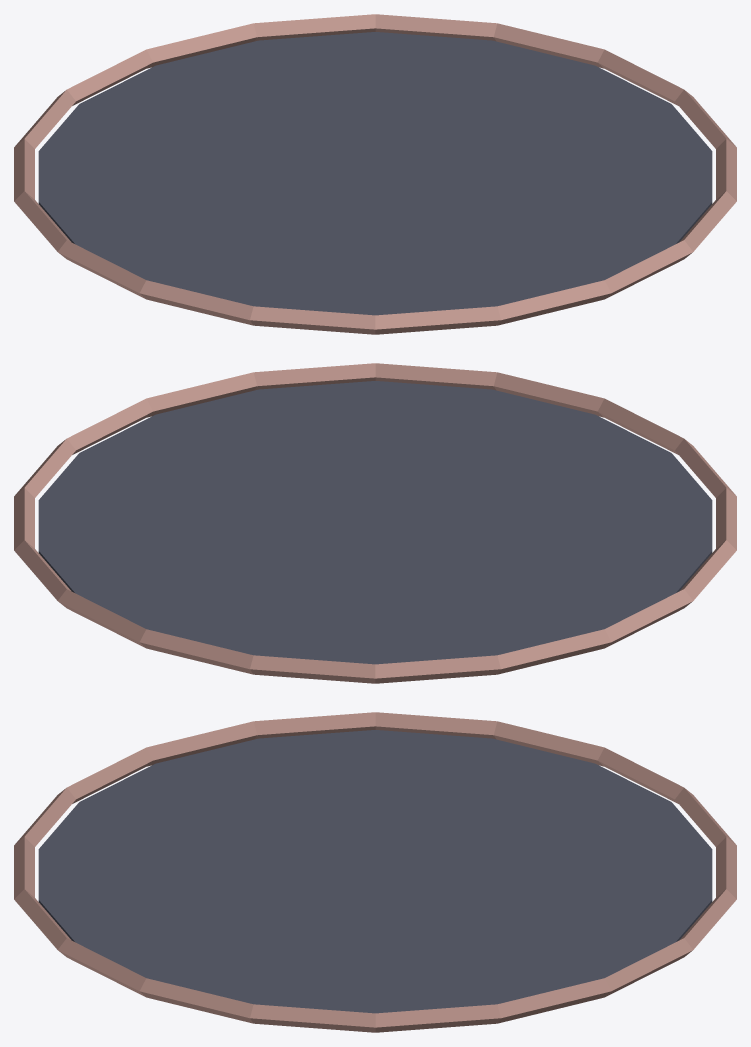
The model's file is sombra_pelota.glb.
3 renders of one model, top to bottom at view 1: azimuth 30°, elevation 25°; view 2: azimuth 150°, elevation 25°; view 3: azimuth 270°, elevation 25°, orthographic.
Parts seen in each view (by area): view 1: sombra_pelota; view 2: sombra_pelota; view 3: sombra_pelota.
Boxes of the visible parts, box(x1,y1,x2,y2) form: sombra_pelota: box(14, 14, 736, 334); sombra_pelota: box(14, 363, 736, 683); sombra_pelota: box(14, 712, 736, 1032).
Size of the model in its own units: 1.03 by 0.03 by 1.01.
